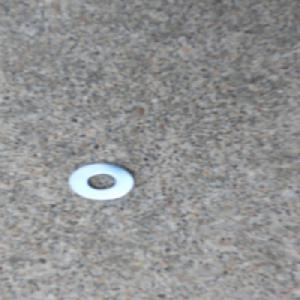Washer: (66, 159, 138, 201)
